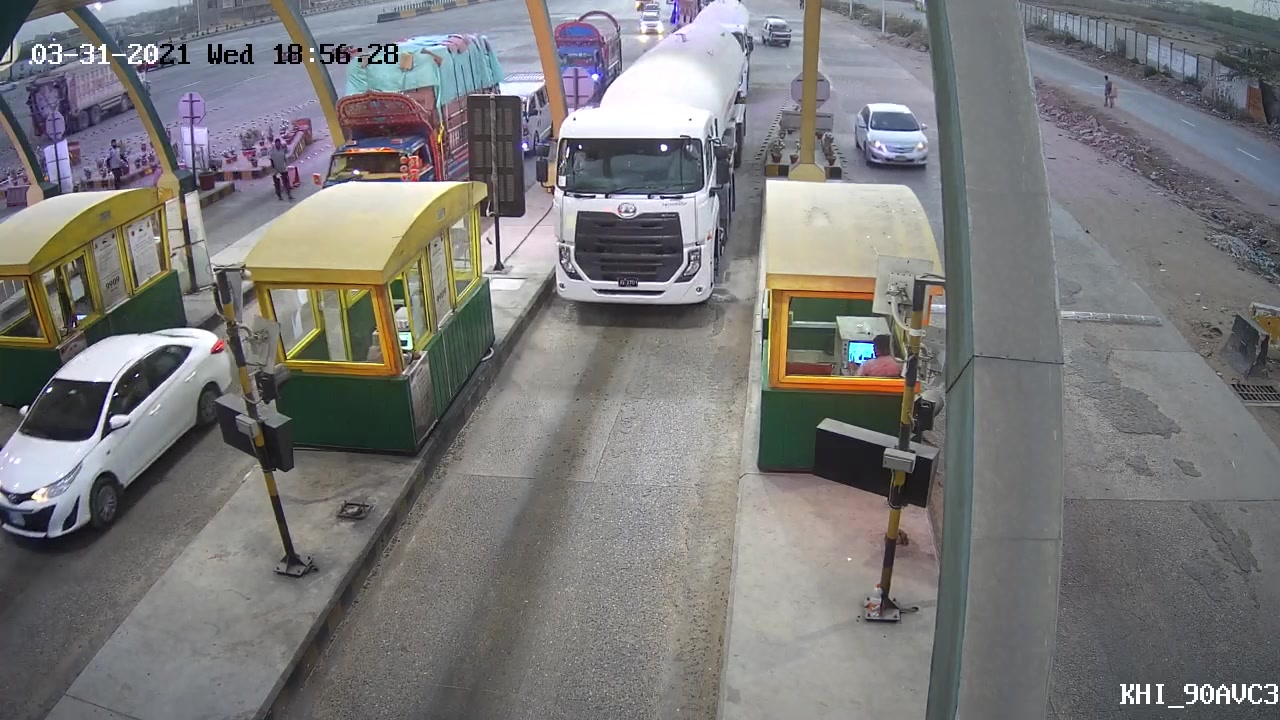F6: (537, 26, 760, 313)
